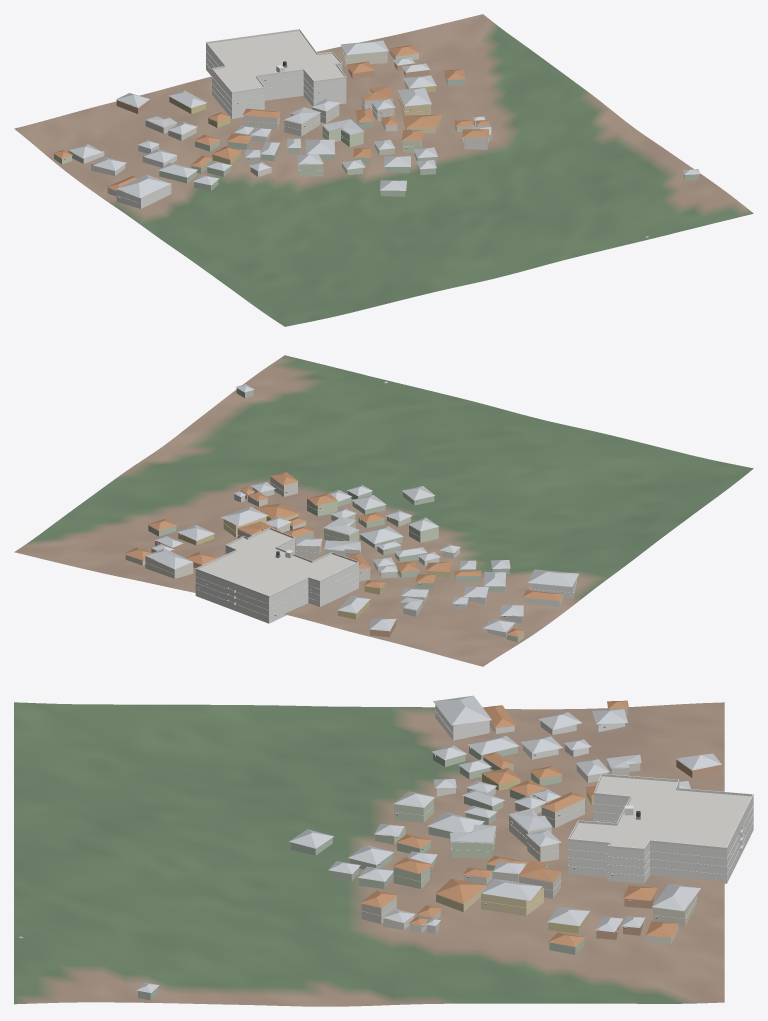
The picture shows the model from 3 angles, top to bottom: view 1: azimuth 30°, elevation 25°; view 2: azimuth 150°, elevation 25°; view 3: azimuth 270°, elevation 25°; orthographic projection. The views are drawn at different scales.
Visible parts, largest first — view 1: Terrain-col, Buildings-col, Details; view 2: Terrain-col, Buildings-col, Details; view 3: Terrain-col, Buildings-col, Details.
Boxes of the visible parts, x1,y1,x2,y2 form: Terrain-col: (14,14,753,326); Buildings-col: (53,31,699,208); Details: (64,29,488,203); Terrain-col: (14,355,753,666); Buildings-col: (124,384,578,642); Details: (145,482,576,622); Terrain-col: (14,702,724,1006); Buildings-col: (136,695,753,1000); Details: (361,710,753,932).
Size of the model in its own units: 256 by 20.66 by 267.
